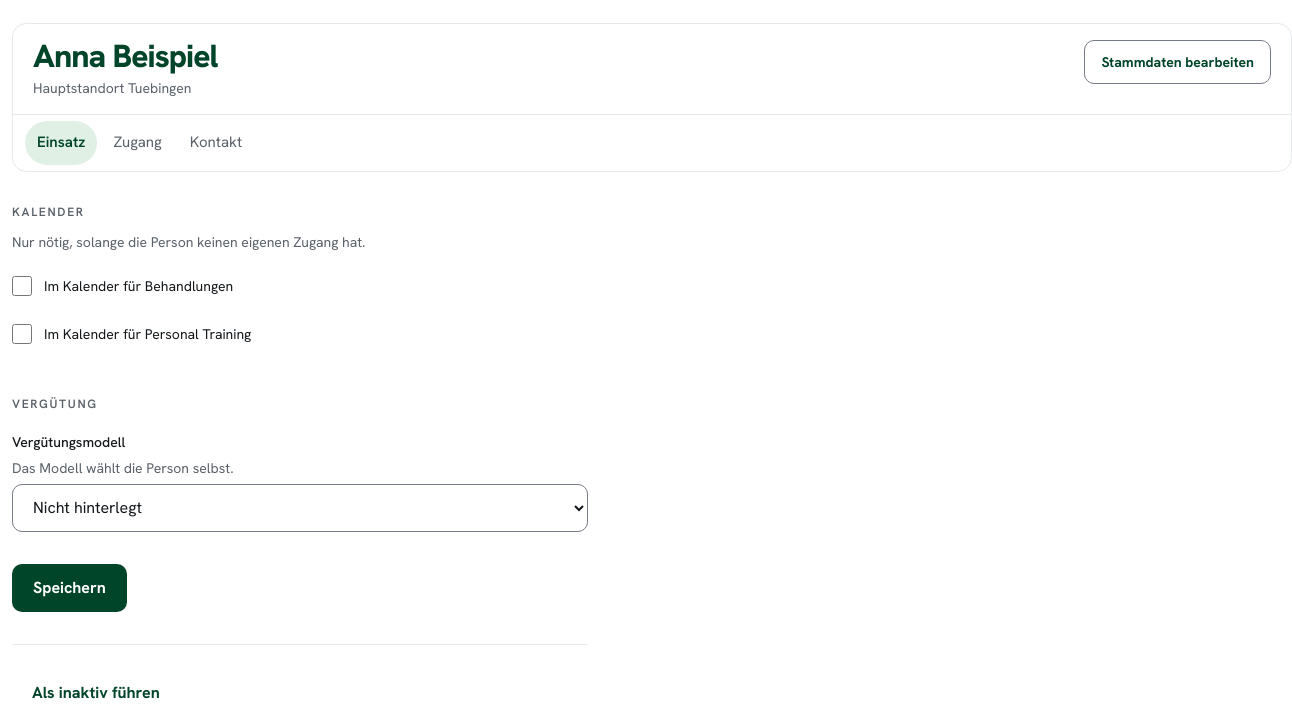
Test: StaffMemberDetailPage › sagt in der Rueckfrage zu, dass bestehende Zuordnungen erhalten bleiben
(page scrolled)
Click the button "Als inaktiv führen": (96, 693) [12,669,180,716]
(page scrolled)
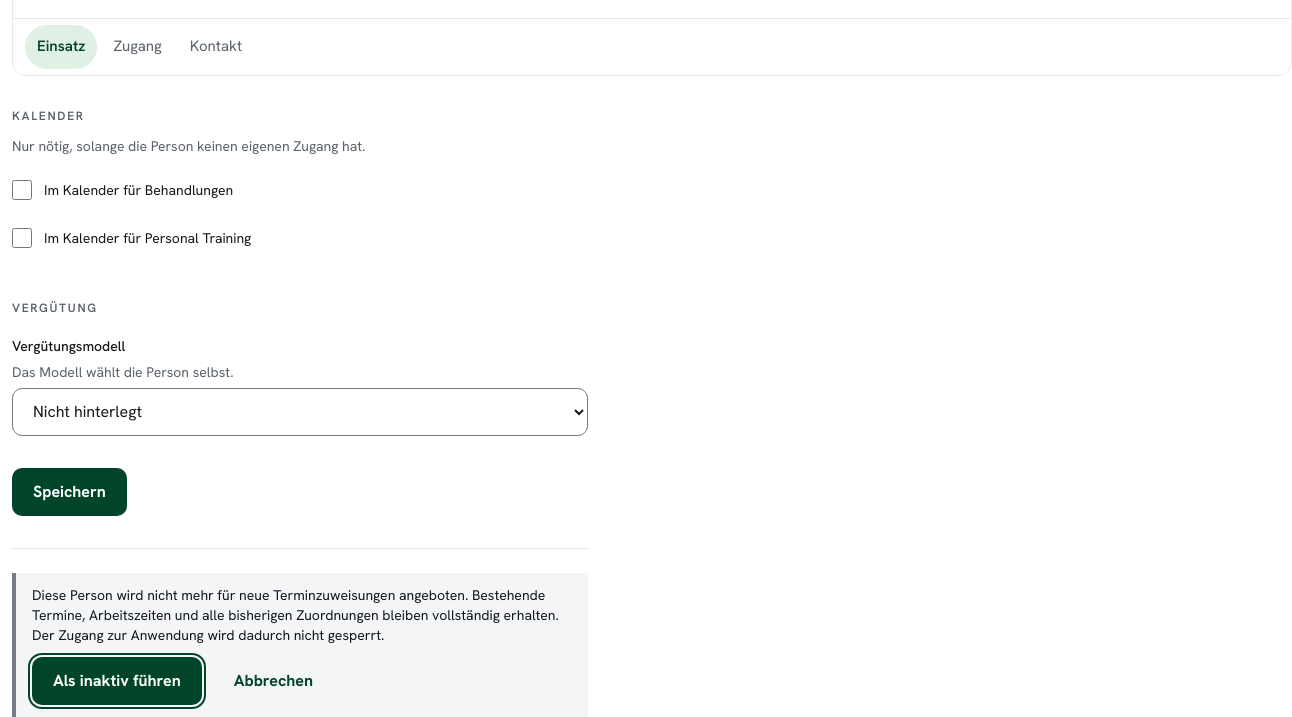
Result: the text "Zugang zur Anwendung wird dadurch nicht gesperrt" is shown at [32,586,559,644]
